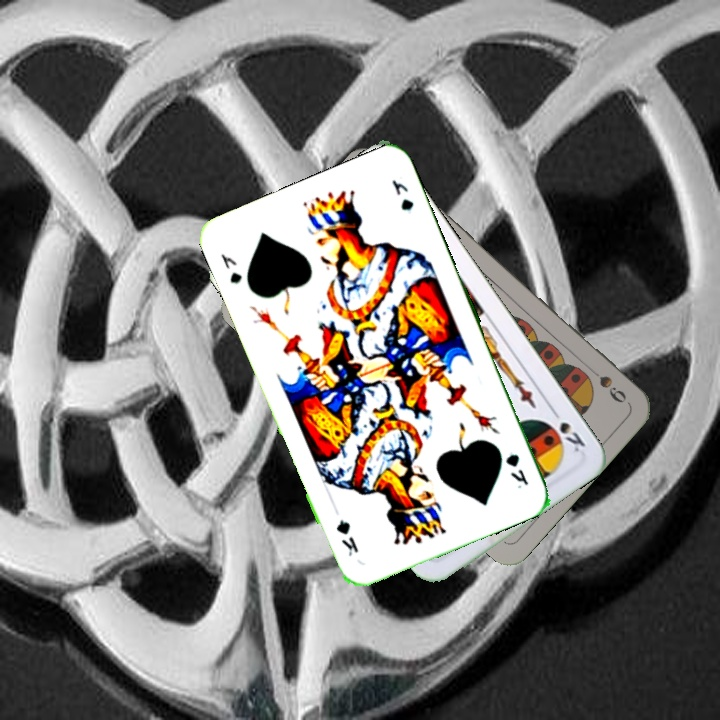GK: (501, 449, 532, 491), (216, 249, 245, 286)
S9: (583, 361, 629, 406)
SK: (546, 403, 588, 455)
